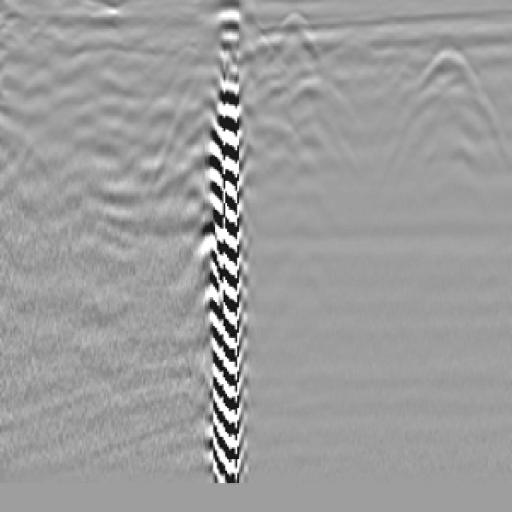metalic: (246, 41, 376, 258)
nonmetalic: (395, 36, 505, 138)
